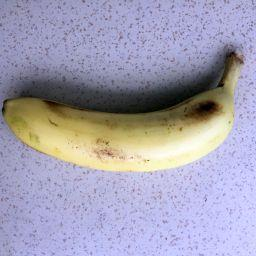Banana Ripe: (0, 41, 256, 185)
